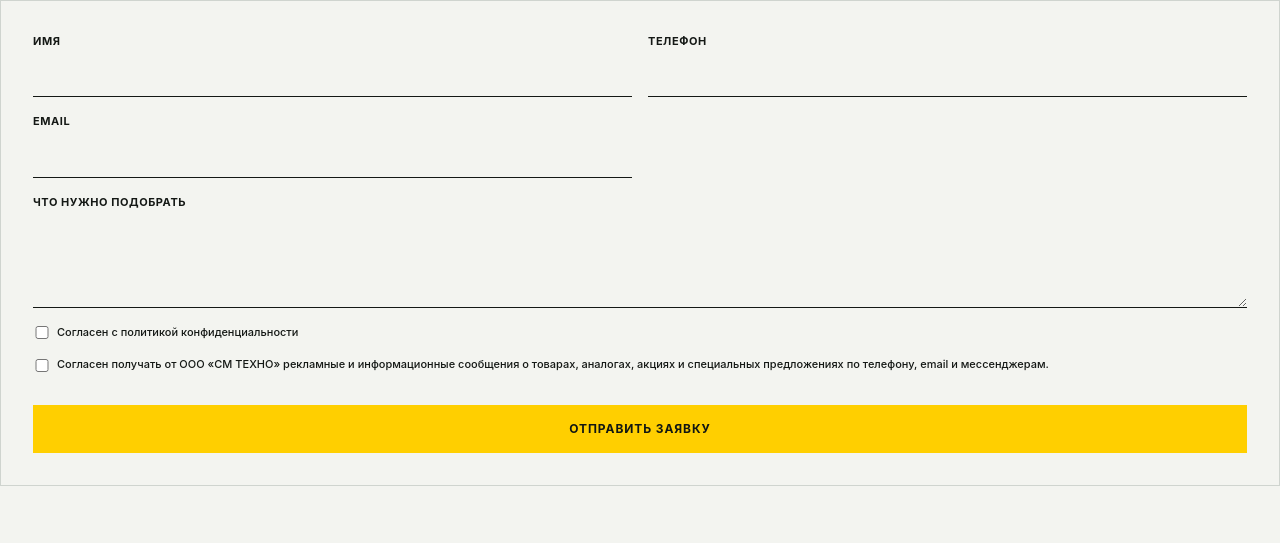
LeadForm › falls back to a generic error when the network fails
Step 1. Type "Иван" into the field labelled "Имя" → (332,77), box [33,56,632,97]
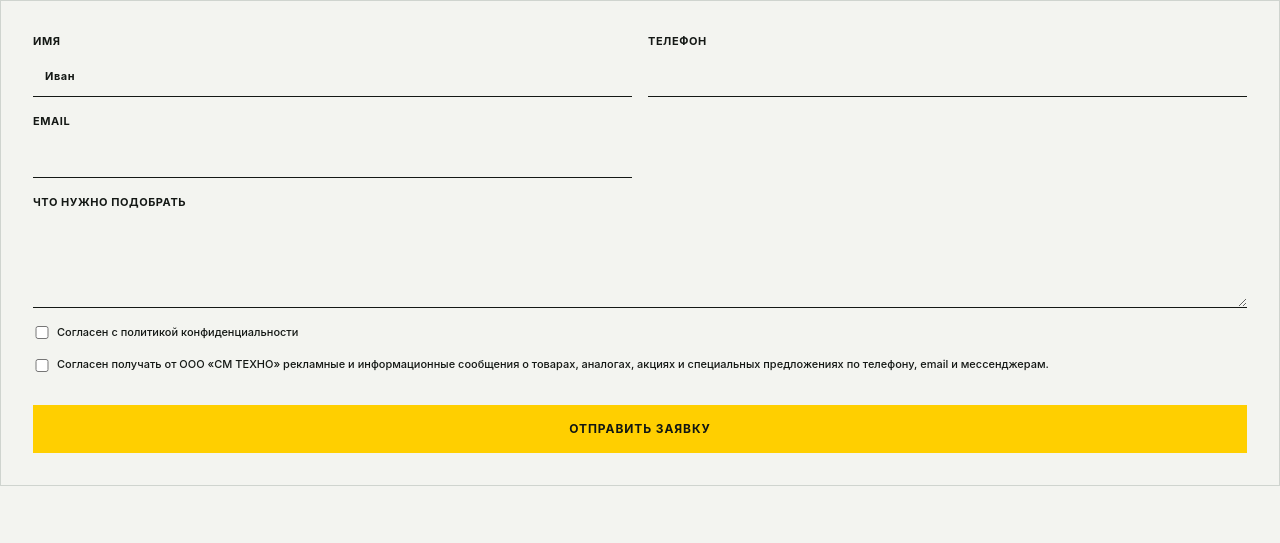
Step 2. Type "+7 900 000-00-00" into the field labelled "Телефон" → (948,77), box [648,56,1247,97]
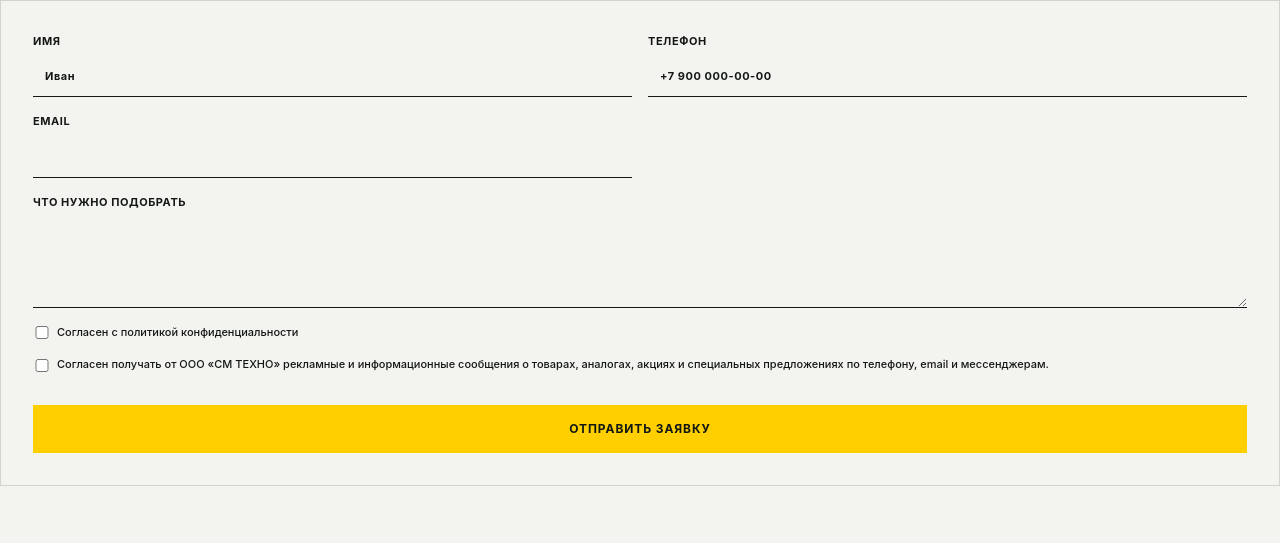
Step 3. Click the checkbox labelled "Согласен с политикой конфиденциальности" → (42,333), box [33,326,51,339]
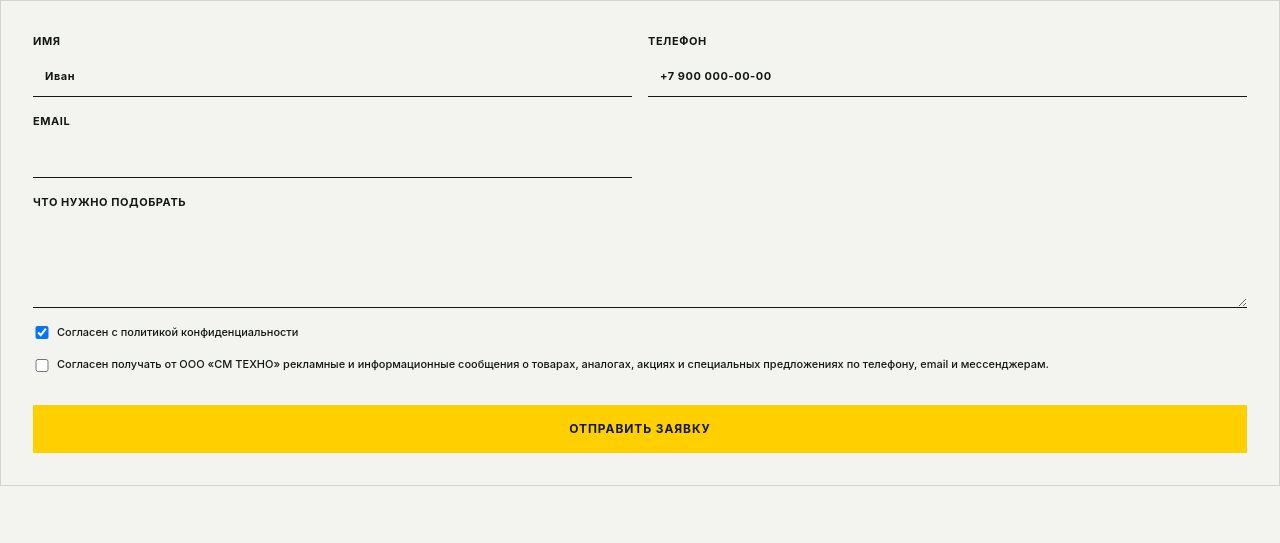
Step 4. Click the button "Отправить заявку" → (640,429), box [33,405,1247,453]
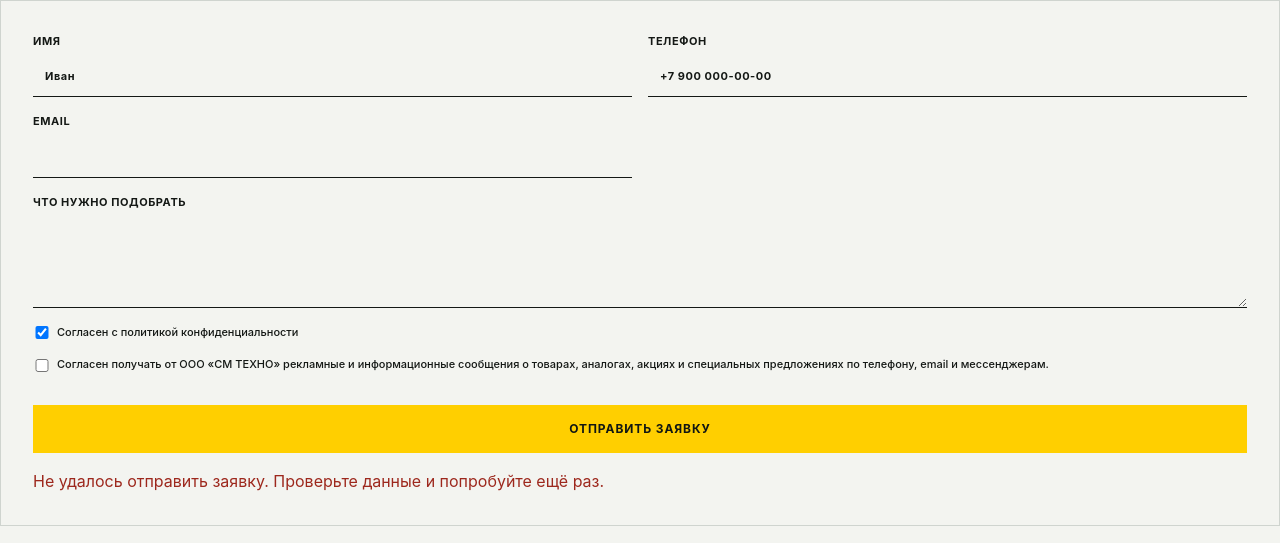
Now the message shows "Не удалось отправить заявку", box [33,471,604,491]
